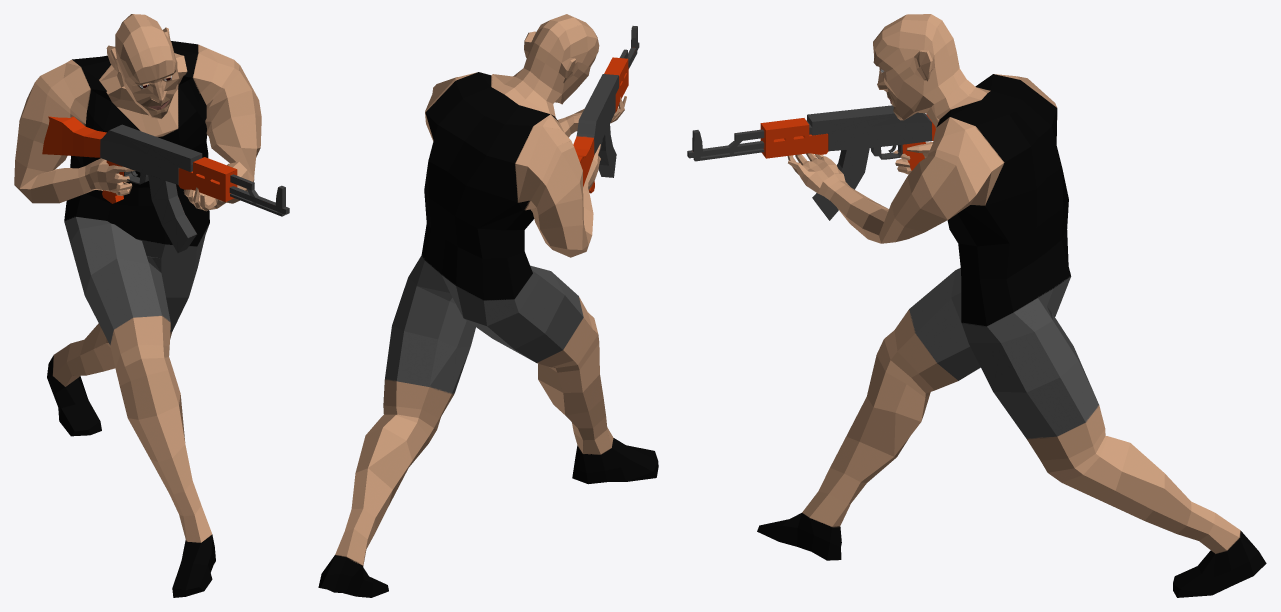
The model's file is PlayerWalk(23).obj.
3 views of the same model, side by side, from view 1: azimuth 30°, elevation 25°; view 2: azimuth 150°, elevation 25°; view 3: azimuth 270°, elevation 25° (orthographic). The views are drawn at different scales.
Visible parts, largest first — view 1: Plane002, Object001; view 2: Plane002, Object001; view 3: Plane002, Object001.
Part boxes in pixels (box(x1,y1,x2,y2)): Plane002: box(14, 14, 261, 597); Object001: box(42, 116, 289, 252); Plane002: box(318, 14, 658, 597); Object001: box(573, 26, 639, 193); Plane002: box(757, 14, 1266, 597); Object001: box(687, 105, 935, 220).
Bounding box in the file's own units: 603 × 1523 × 1482.
